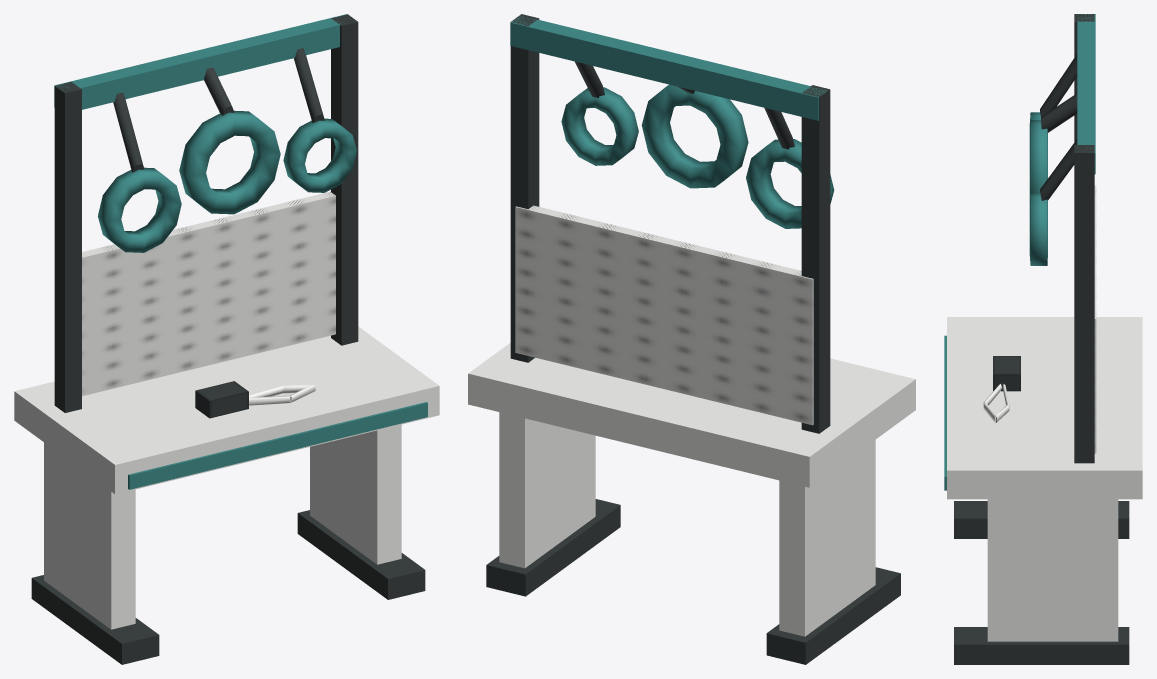
3 views of the same model, side by side, from view 1: azimuth 30°, elevation 25°; view 2: azimuth 150°, elevation 25°; view 3: azimuth 270°, elevation 25° (orthographic). The views are drawn at different scales.
Parts seen in each view (by area): view 1: Workshop bench, Perforated back and uprights, Three open architectural eyelets, Pocket sample and lime lanyard, Lime lanyard; view 2: Perforated back and uprights, Workshop bench, Three open architectural eyelets; view 3: Workshop bench, Perforated back and uprights, Three open architectural eyelets, Pocket sample and lime lanyard, Lime lanyard.
Part boxes in pixels (<box>): Workshop bench: <box>14,326,439,664</box>; Perforated back and uprights: <box>54,14,358,412</box>; Three open architectural eyelets: <box>98,48,356,252</box>; Pocket sample and lime lanyard: <box>195,381,248,418</box>; Lime lanyard: <box>249,384,315,405</box>; Perforated back and uprights: <box>510,14,830,433</box>; Workshop bench: <box>468,342,915,664</box>; Three open architectural eyelets: <box>561,61,834,228</box>; Workshop bench: <box>944,317,1142,664</box>; Perforated back and uprights: <box>1074,14,1096,463</box>; Three open architectural eyelets: <box>1029,54,1077,265</box>; Pocket sample and lime lanyard: <box>993,356,1020,391</box>; Lime lanyard: <box>983,384,1009,422</box>.
Bounding box in the file's own units: 1.65 × 2.55 × 0.9.
Materials: 1 (1 with a texture image).
